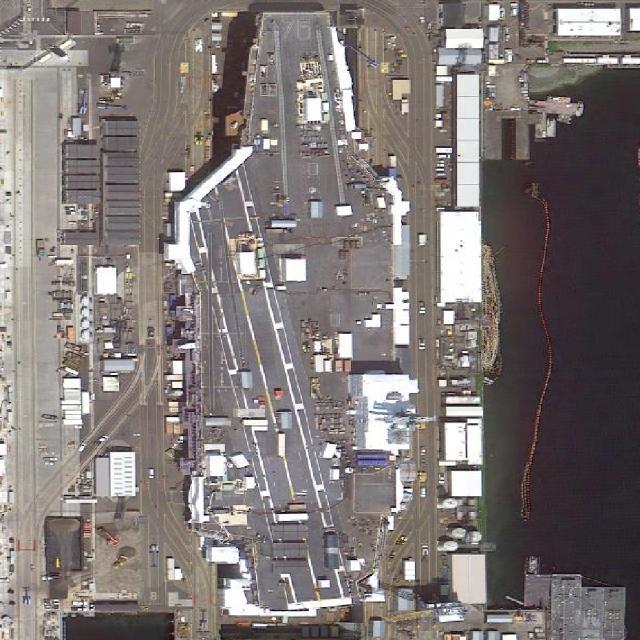Aircraft Carrier: (179, 12, 394, 608)
